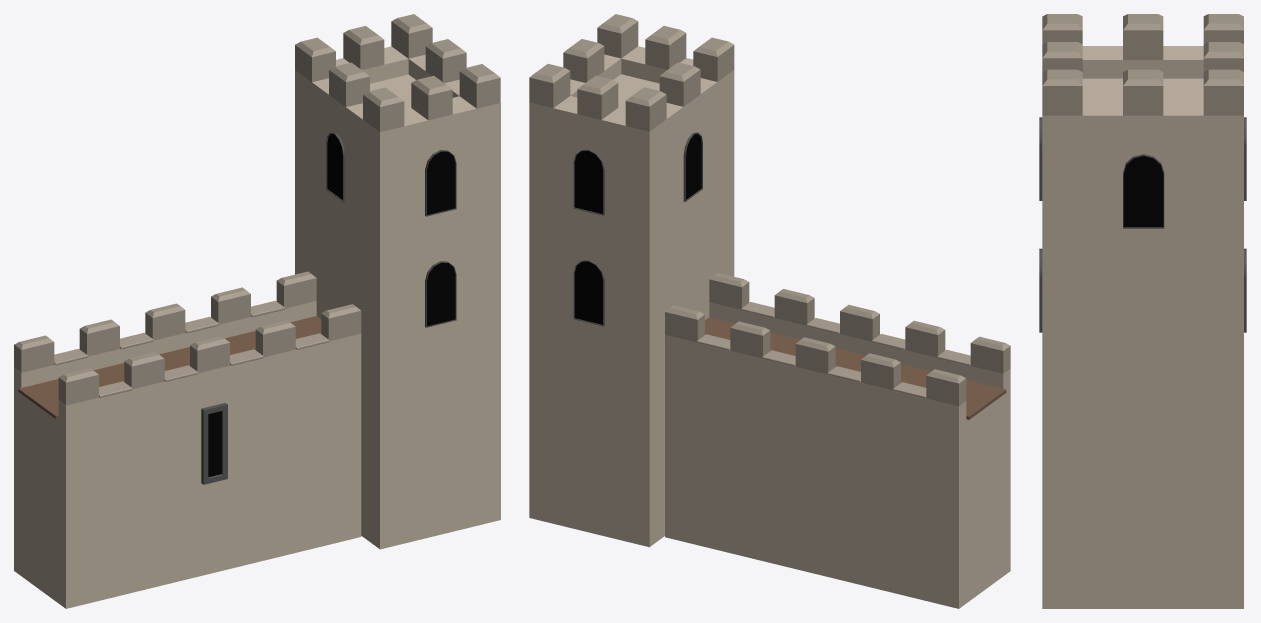
The model's file is castle_fortification_B.fbx.
The picture shows the model from 3 angles, left to right: view 1: azimuth 30°, elevation 25°; view 2: azimuth 150°, elevation 25°; view 3: azimuth 270°, elevation 25°; orthographic projection. The views are drawn at different scales.
Parts seen in each view (by area): view 1: wall_A, tower_A, floor2, window2, round_window1, round_window, polySurface7, polySurface10, polySurface5, polySurface2, polySurface4, polySurface6 (+13 smaller); view 2: wall_A, tower_A, floor2, round_window4, round_window3, polySurface4, polySurface2, polySurface1, polySurface7, polySurface3, polySurface10, polySurface5 (+12 smaller); view 3: tower_A, round_window2, polySurface10, polySurface6, polySurface4, polySurface3, polySurface2, polySurface5, polySurface7, polySurface1, round_window1, round_window.
Boxes of the visible parts, <box> form: wall_A: <box>14,301,361,608</box>; tower_A: <box>295,46,500,549</box>; floor2: <box>18,316,321,418</box>; window2: <box>201,402,227,484</box>; round_window1: <box>425,261,456,327</box>; round_window: <box>425,150,456,216</box>; polySurface7: <box>411,75,452,120</box>; polySurface10: <box>459,64,500,108</box>; polySurface5: <box>363,87,404,131</box>; polySurface2: <box>343,26,384,69</box>; polySurface4: <box>391,14,432,58</box>; polySurface6: <box>425,39,466,83</box>; wall_A: <box>665,302,1010,608</box>; tower_A: <box>529,46,734,547</box>; floor2: <box>705,317,1006,419</box>; round_window4: <box>573,260,604,326</box>; round_window3: <box>573,149,604,215</box>; polySurface4: <box>529,64,570,108</box>; polySurface2: <box>577,75,618,119</box>; polySurface1: <box>625,87,666,131</box>; polySurface7: <box>645,26,686,69</box>; polySurface3: <box>659,62,700,106</box>; polySurface10: <box>597,14,638,58</box>; polySurface5: <box>693,37,734,81</box>; tower_A: <box>1042,46,1243,608</box>; round_window2: <box>1123,154,1164,228</box>; polySurface10: <box>1042,69,1082,115</box>; polySurface6: <box>1123,69,1163,115</box>; polySurface4: <box>1203,69,1243,115</box>; polySurface3: <box>1123,14,1163,59</box>; polySurface2: <box>1203,42,1243,71</box>; polySurface5: <box>1042,14,1082,43</box>; polySurface7: <box>1042,42,1082,71</box>; polySurface1: <box>1203,14,1243,43</box>; round_window1: <box>1039,248,1042,332</box>; round_window: <box>1039,117,1042,200</box>.
Size of the model in its own units: 708 by 718 by 255.
